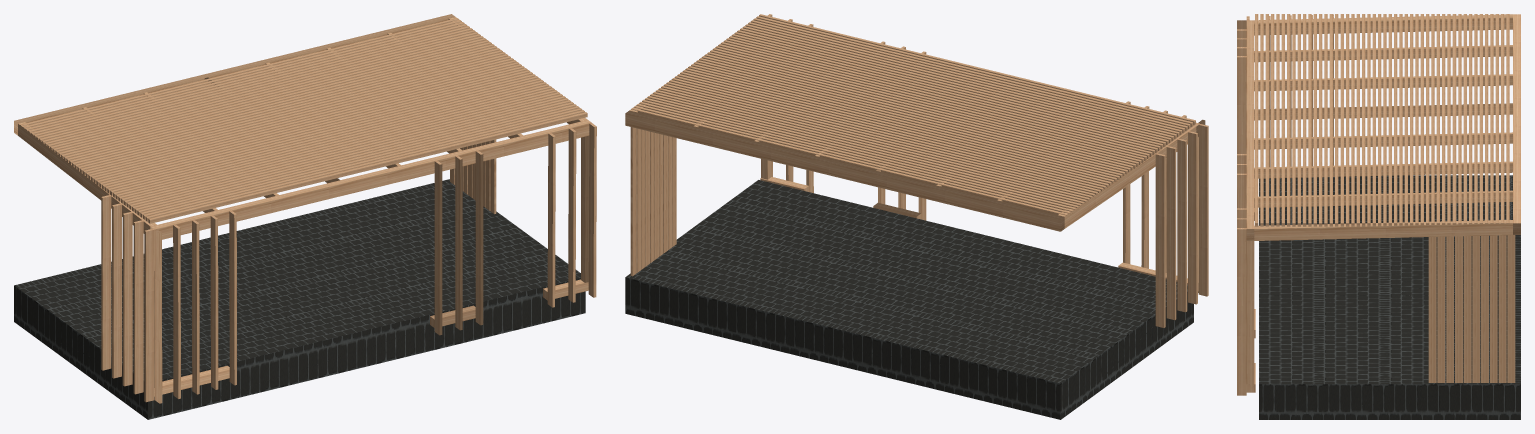
The model's file is pegrola_-_micha.xml.glb.
3 views of the same model, side by side, from view 1: azimuth 30°, elevation 25°; view 2: azimuth 150°, elevation 25°; view 3: azimuth 270°, elevation 25° (orthographic). The views are drawn at different scales.
Visible parts, largest first — view 1: Material3, Material4 (×21), dense_beam_0, dense_beam_19, dense_beam_4, dense_beam_11, dense_beam_8, dense_beam_12, dense_beam_16, dense_beam_1, dense_beam_7, dense_beam_9 (+38 smaller); view 2: Material3, Material4 (×9), dense_beam_47, dense_beam_19, dense_beam_3, dense_beam_16, dense_beam_22, dense_beam_12, dense_beam_2, dense_beam_4, dense_beam_9, dense_beam_13 (+48 smaller); view 3: Material3, Material4 (×14), wall_beam_rotated_node_8, wall_beam_rotated_node_9, wall_beam_rotated_node_4, wall_beam_rotated_node_5, wall_beam_rotated_node_1, wall_beam_rotated_node_0, wall_beam_rotated_node_7, wall_beam_rotated_node_6, wall_beam_rotated_node_2, wall_beam_rotated_node_3 (+48 smaller).
Part boxes in pixels (box(x1,y1,x2,y2)): Material3: box(14, 179, 585, 419); Material4 (×21): box(14, 14, 596, 403); dense_beam_0: box(148, 112, 587, 223); dense_beam_19: box(96, 74, 535, 185); dense_beam_4: box(137, 104, 576, 215); dense_beam_11: box(118, 90, 557, 201); dense_beam_8: box(126, 96, 565, 207); dense_beam_12: box(115, 88, 554, 199); dense_beam_16: box(104, 80, 543, 191); dense_beam_1: box(145, 110, 584, 221); dense_beam_7: box(129, 98, 568, 209); dense_beam_9: box(123, 94, 562, 205); Material3: box(625, 180, 1193, 419); Material4 (×9): box(625, 101, 1208, 327); dense_beam_47: box(631, 108, 1067, 216); dense_beam_19: box(707, 52, 1144, 163); dense_beam_3: box(750, 20, 1187, 131); dense_beam_16: box(715, 46, 1152, 157); dense_beam_22: box(699, 58, 1136, 168); dense_beam_12: box(726, 38, 1163, 149); dense_beam_2: box(753, 18, 1190, 129); dense_beam_4: box(748, 22, 1185, 133); dense_beam_9: box(734, 32, 1171, 143); dense_beam_13: box(723, 40, 1160, 151); Material3: box(1259, 175, 1520, 419); Material4 (×14): box(1237, 14, 1520, 395); wall_beam_rotated_node_8: box(1498, 235, 1506, 382); wall_beam_rotated_node_9: box(1507, 235, 1515, 382); wall_beam_rotated_node_4: box(1463, 236, 1471, 382); wall_beam_rotated_node_5: box(1472, 236, 1480, 382); wall_beam_rotated_node_1: box(1437, 236, 1445, 382); wall_beam_rotated_node_0: box(1428, 237, 1436, 382); wall_beam_rotated_node_7: box(1490, 235, 1497, 382); wall_beam_rotated_node_6: box(1481, 235, 1488, 382); wall_beam_rotated_node_2: box(1446, 236, 1453, 382); wall_beam_rotated_node_3: box(1455, 236, 1462, 382).
Size of the model in its own units: 301 by 130 by 170.
Materials: 2 (2 with a texture image).
